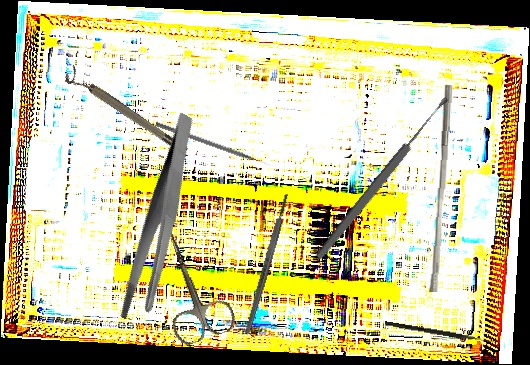Dressing Forceps: (76, 111, 245, 329)
Fixation Ring: (62, 64, 190, 162)
Hook Surgical: (154, 121, 273, 169), (384, 321, 496, 344)
Iris Scissors: (142, 220, 239, 349)
Pusher: (428, 84, 454, 293)
Scalpel Handle: (242, 191, 292, 336)
Surgical Spoon: (313, 94, 452, 262)
